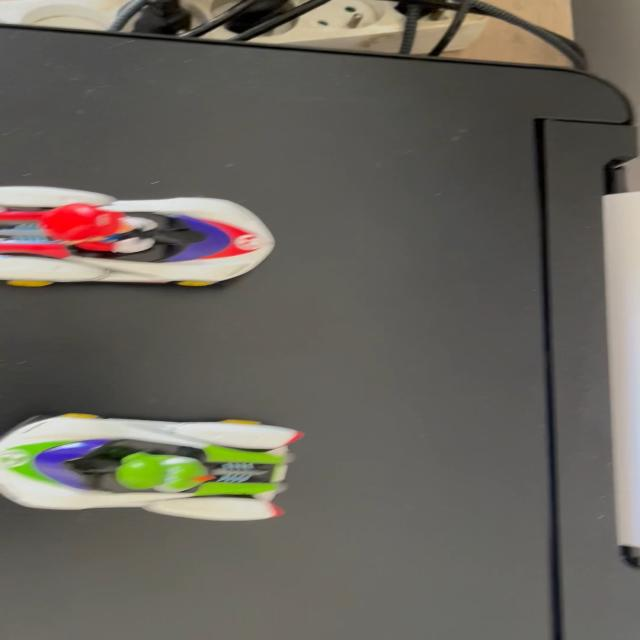mario: (3, 182, 302, 302)
yoshi: (0, 398, 327, 546)
